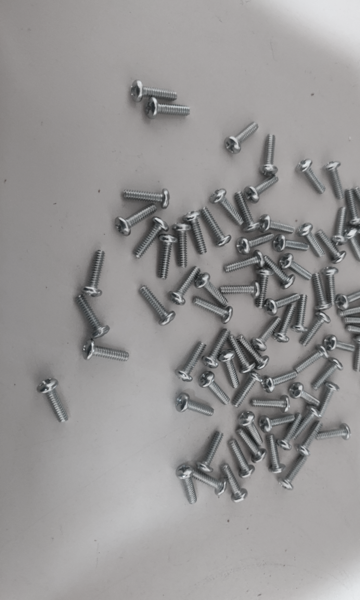shortscrew: (75, 295, 111, 339), (138, 286, 176, 326), (37, 379, 69, 425), (134, 217, 169, 259), (115, 203, 158, 236), (235, 334, 272, 371), (174, 341, 206, 383), (209, 189, 245, 225), (170, 266, 201, 307), (201, 207, 232, 248), (195, 272, 229, 308), (82, 249, 107, 297), (232, 371, 263, 409), (300, 310, 331, 348), (315, 229, 348, 264), (234, 191, 261, 233), (196, 432, 223, 474), (192, 297, 234, 324), (251, 316, 281, 353), (130, 80, 178, 103), (264, 256, 296, 290), (225, 122, 260, 153), (295, 159, 326, 194), (278, 454, 308, 490), (200, 372, 231, 406), (229, 440, 256, 479), (230, 335, 257, 374), (237, 428, 267, 463), (293, 346, 329, 375), (296, 223, 325, 259), (144, 97, 191, 119), (223, 465, 249, 504), (276, 412, 302, 451), (184, 211, 207, 255), (244, 175, 280, 203), (278, 253, 314, 281), (314, 357, 343, 391), (293, 406, 321, 441), (83, 340, 129, 361), (158, 234, 179, 280), (121, 190, 171, 209), (223, 251, 265, 273), (236, 233, 276, 256), (176, 393, 214, 417), (254, 267, 275, 309), (218, 349, 240, 389), (261, 371, 299, 394), (316, 382, 340, 418), (274, 303, 295, 344), (295, 423, 321, 456), (193, 472, 227, 497), (325, 161, 346, 201), (239, 412, 263, 447), (176, 464, 196, 505), (264, 295, 301, 317), (267, 435, 287, 475), (219, 280, 261, 299), (174, 224, 192, 267), (289, 383, 321, 407), (261, 133, 278, 177), (258, 215, 295, 235), (250, 395, 291, 413), (331, 206, 349, 246), (314, 274, 333, 311), (322, 267, 340, 306), (260, 415, 295, 434), (293, 295, 310, 334), (273, 235, 309, 253), (316, 424, 351, 442), (324, 335, 356, 353), (344, 228, 360, 264), (335, 290, 360, 311), (338, 300, 360, 318), (352, 335, 360, 373), (343, 313, 360, 329), (346, 324, 360, 343), (353, 187, 360, 222), (356, 225, 360, 262)
